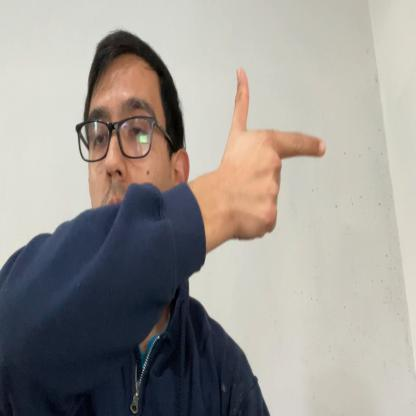G: (221, 66, 326, 240)
